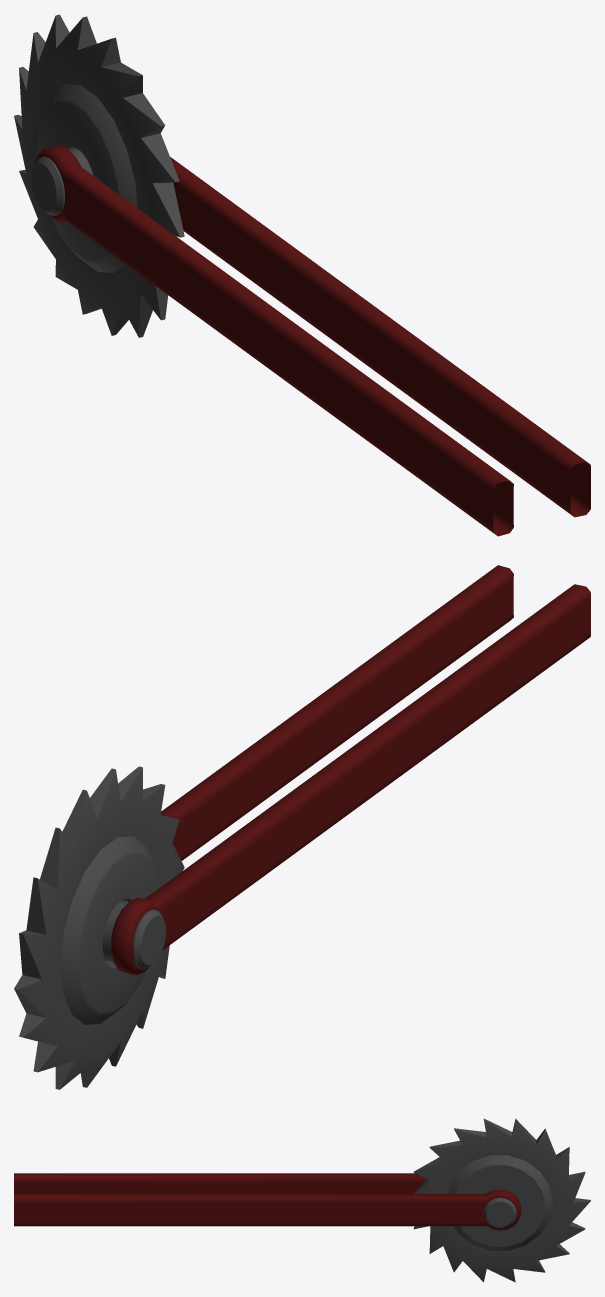
File: saw_blade.fbx
3 renders of one model, top to bottom at view 1: azimuth 30°, elevation 25°; view 2: azimuth 150°, elevation 25°; view 3: azimuth 270°, elevation 25°, orthographic. The views are drawn at different scales.
Parts seen in each view (by area): view 1: stick, sawblade, sawbar; view 2: stick, sawblade, sawbar; view 3: stick, sawblade, sawbar.
Boxes of the visible parts, x1,y1,x2,y2 form: stick: (35, 145, 590, 536); sawblade: (14, 14, 184, 337); sawbar: (31, 148, 93, 216); stick: (111, 565, 590, 975); sawblade: (14, 766, 184, 1089); sawbar: (102, 901, 165, 968); stick: (14, 1173, 520, 1230); sawblade: (413, 1118, 590, 1282); sawbar: (484, 1189, 516, 1228).
Bounding box in the file's own units: 36.99 × 96.25 × 309.
